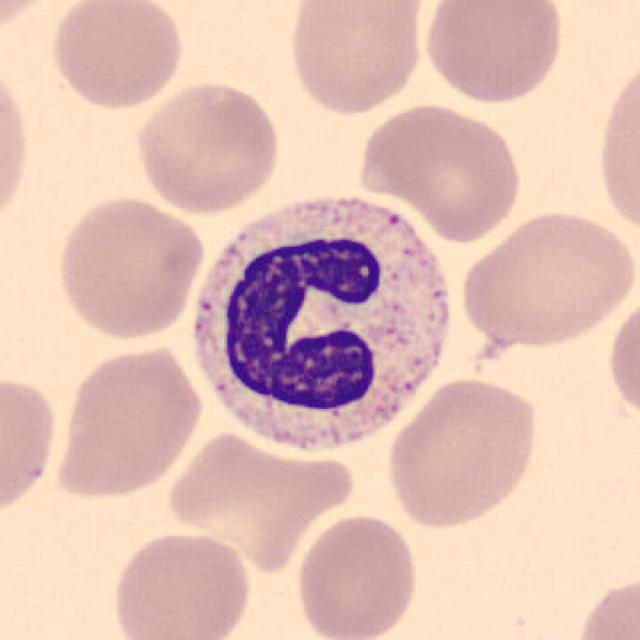Neutrophil: (180, 185, 462, 469)
RBC: (453, 204, 635, 351), (162, 427, 350, 568), (50, 340, 206, 501), (382, 374, 542, 530), (354, 99, 524, 243), (52, 192, 208, 342), (130, 78, 284, 215), (291, 509, 421, 640), (284, 2, 430, 118), (107, 527, 254, 640), (46, 0, 188, 113), (420, 0, 567, 108), (0, 366, 62, 524), (592, 49, 638, 245), (0, 56, 34, 235), (604, 287, 640, 434), (567, 569, 640, 640), (0, 0, 60, 42)
